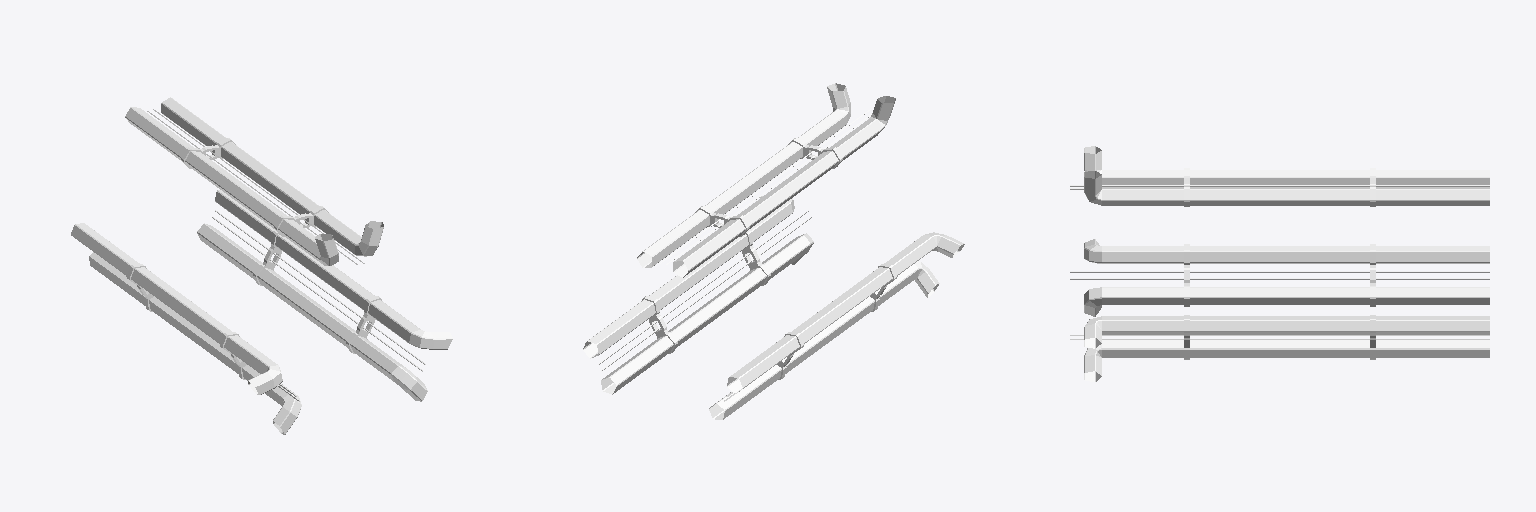
Rendered from oolite_rock_hermit_pipes.obj.
3 views of the same model, side by side, from view 1: azimuth 30°, elevation 25°; view 2: azimuth 150°, elevation 25°; view 3: azimuth 270°, elevation 25° (orthographic).
Visible parts, largest first — view 1: oolite_rock_hermit_pipes.obj; view 2: oolite_rock_hermit_pipes.obj; view 3: oolite_rock_hermit_pipes.obj.
Part boxes in pixels (bbox=[...]): oolite_rock_hermit_pipes.obj: bbox=[71, 97, 452, 434]; oolite_rock_hermit_pipes.obj: bbox=[583, 83, 964, 419]; oolite_rock_hermit_pipes.obj: bbox=[1070, 146, 1489, 381].
Size of the model in its own units: 335 by 297 by 605.